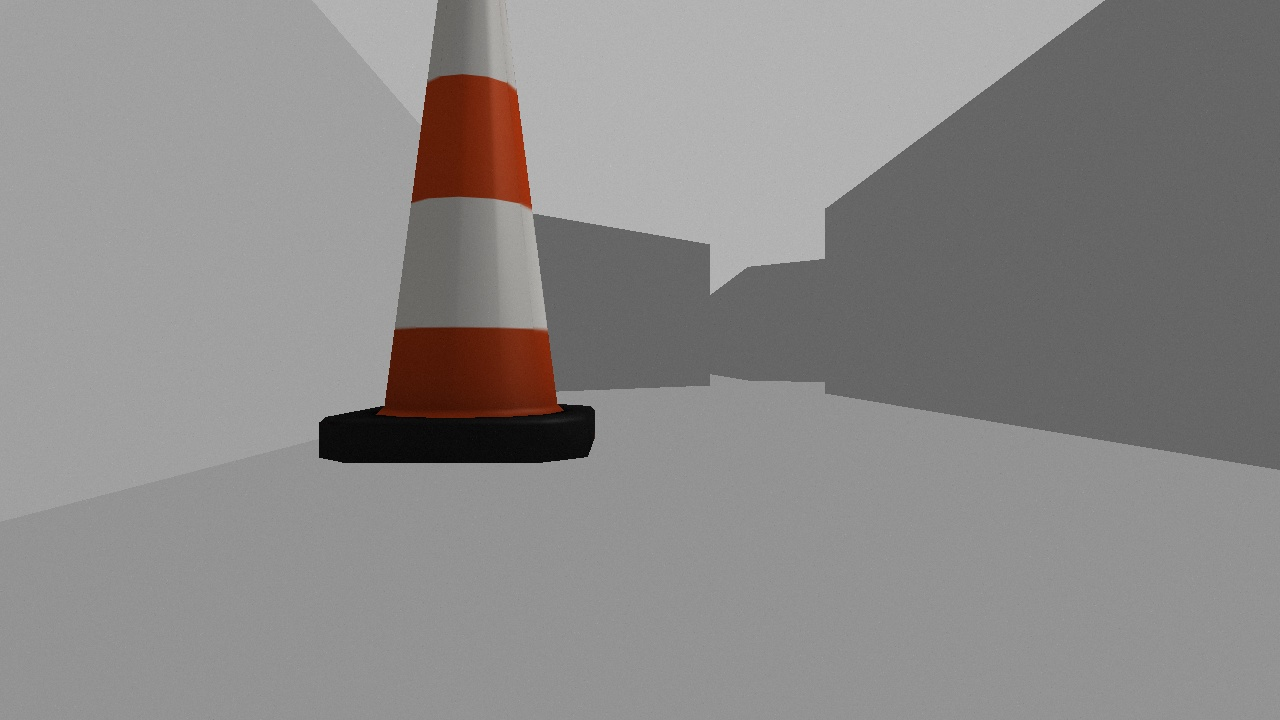barricade: (317, 1, 596, 462)
